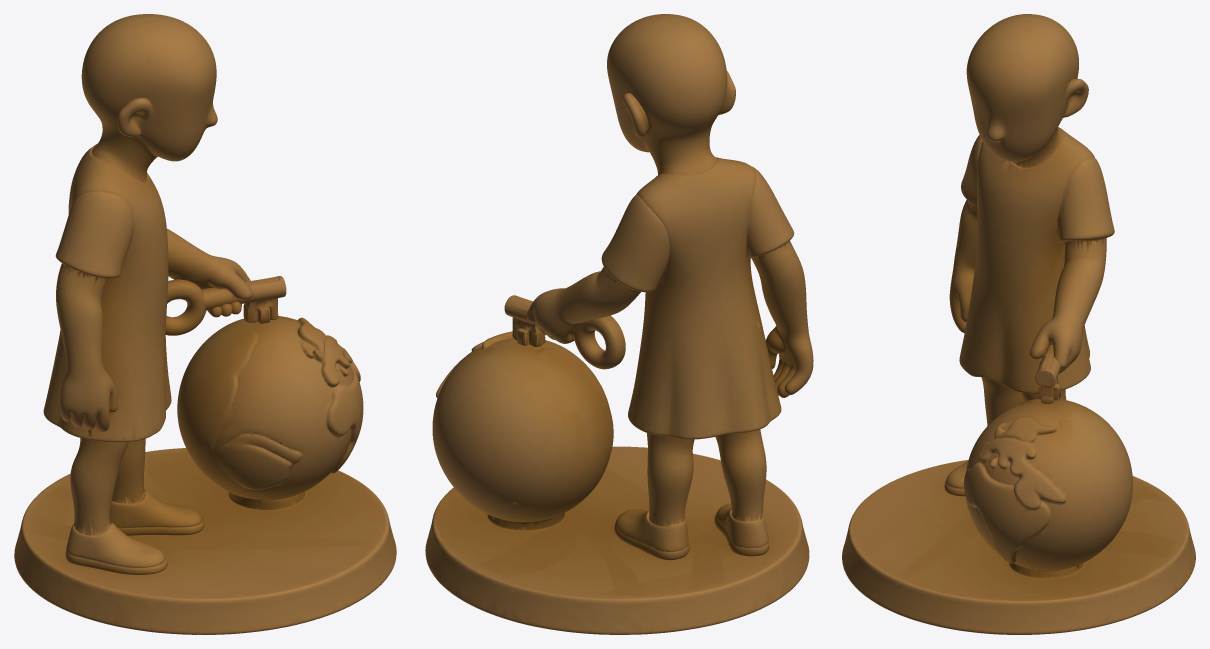
The picture shows the model from 3 angles, left to right: view 1: azimuth 30°, elevation 25°; view 2: azimuth 150°, elevation 25°; view 3: azimuth 270°, elevation 25°; orthographic projection. The views are drawn at different scales.
Parts seen in each view (by area): view 1: material; view 2: material; view 3: material.
Part boxes in pixels (x1=…): material: x1=14, y1=14, x2=396, y2=634; material: x1=425, y1=14, x2=813, y2=634; material: x1=842, y1=14, x2=1195, y2=634.
Bounding box in the file's own units: 0.6519 × 1.02 × 0.635.
Materials: 1 (1 with a texture image).
